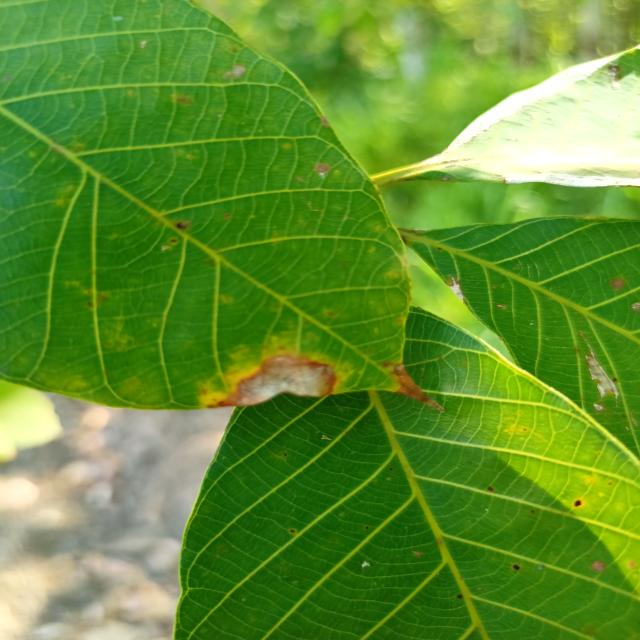Colletotrichum: (573, 499, 583, 507), (170, 238, 178, 245), (512, 564, 520, 570), (487, 486, 494, 492), (456, 593, 463, 599), (289, 529, 295, 533), (365, 526, 369, 529), (284, 453, 287, 456), (389, 468, 393, 470)
Leaf-Blight: (232, 356, 334, 406)
